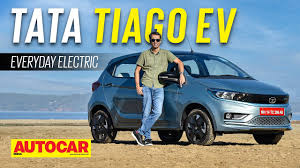Tiago: (182, 48, 294, 146)
